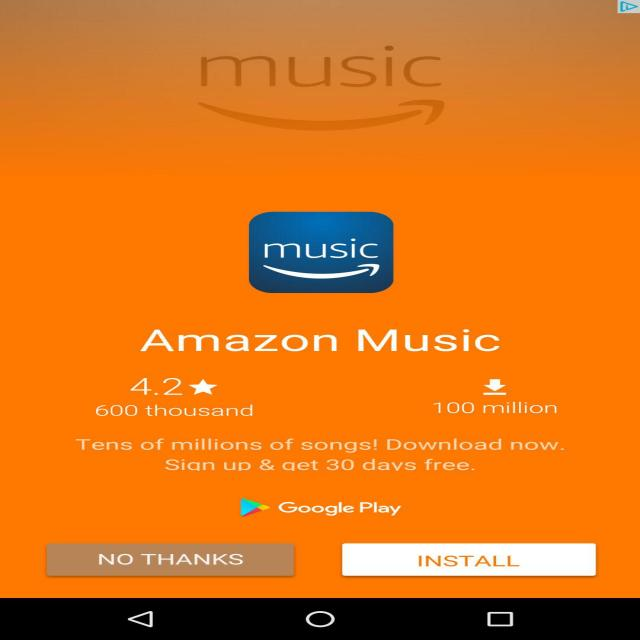button: (338, 544, 600, 574), (50, 548, 287, 576)
image: (0, 1, 640, 600), (228, 212, 414, 298), (227, 494, 420, 523)
text: (68, 429, 586, 473), (130, 320, 518, 362), (91, 369, 275, 424), (417, 370, 575, 421), (396, 549, 536, 574), (87, 551, 256, 571)
